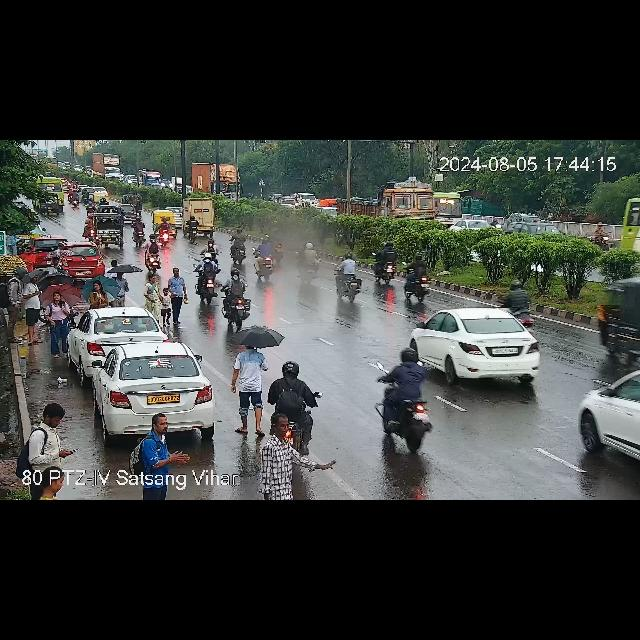bus: (610, 163, 640, 257), (32, 178, 64, 210)
car: (74, 339, 218, 436), (418, 310, 544, 380), (582, 367, 640, 469), (68, 309, 170, 361), (24, 237, 110, 277), (58, 244, 108, 278), (84, 213, 128, 245), (450, 218, 506, 234), (510, 220, 566, 236), (80, 186, 112, 204), (34, 195, 60, 217), (153, 210, 177, 230), (124, 193, 142, 210)
motorcycle: (379, 350, 431, 458), (198, 242, 250, 328), (271, 349, 319, 421), (335, 253, 367, 301), (366, 243, 402, 283), (296, 240, 324, 288), (401, 266, 434, 300), (255, 239, 281, 273), (141, 238, 163, 272), (155, 217, 177, 245), (184, 218, 212, 240), (230, 232, 248, 262)
person: (24, 398, 70, 500), (266, 410, 314, 500), (231, 337, 269, 419), (6, 268, 44, 349), (133, 416, 187, 472), (138, 274, 184, 320), (44, 289, 70, 361), (163, 270, 185, 326), (90, 280, 122, 310)
truck: (339, 185, 459, 225), (171, 198, 223, 238), (186, 162, 246, 195), (92, 154, 121, 180)
